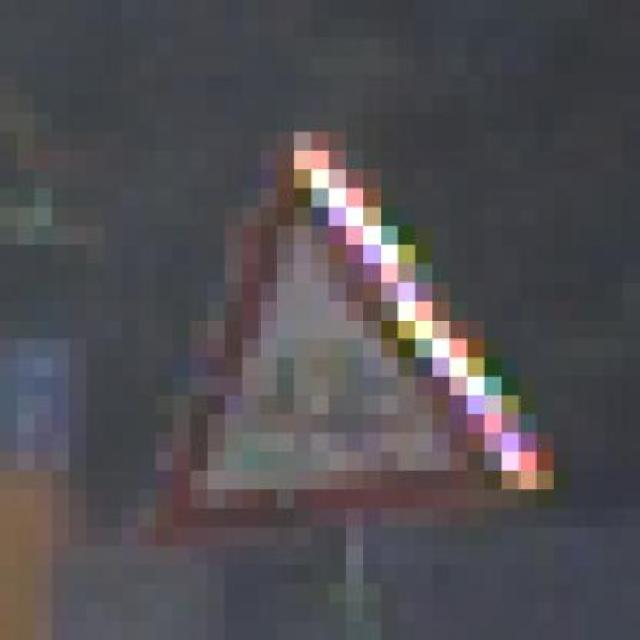CYCLE ROUTE AHEAD WARNING: (128, 132, 544, 546)
